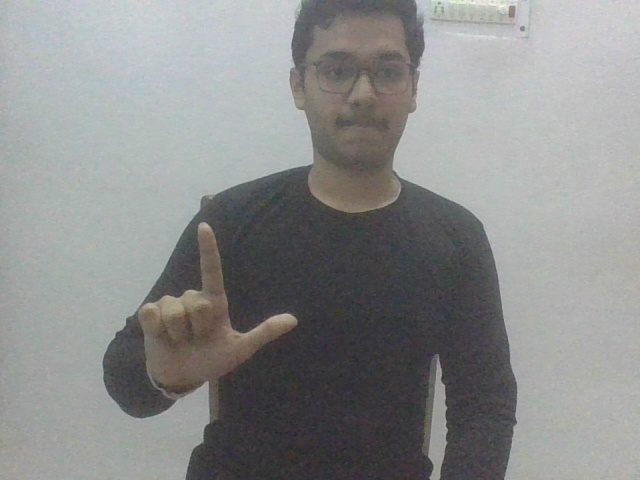L: (136, 223, 309, 398)
